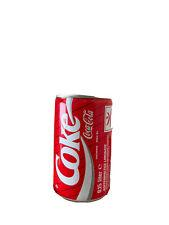metal: (54, 96, 112, 202)
